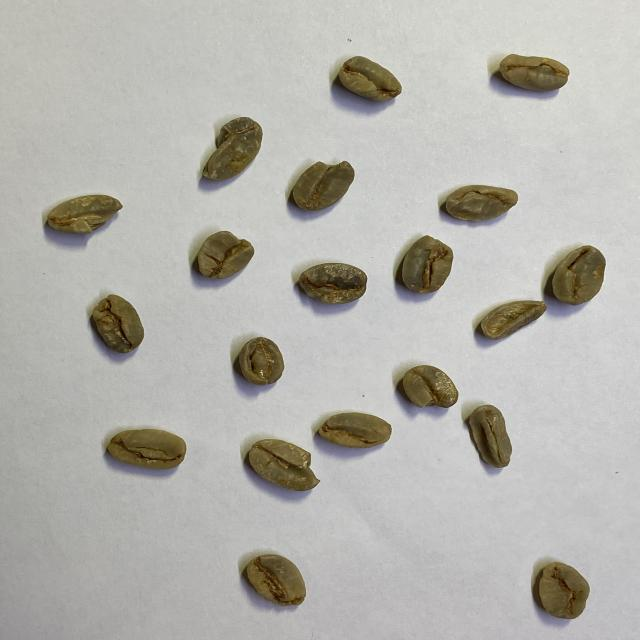bad: (201, 115, 264, 182), (247, 438, 322, 492), (105, 426, 188, 473), (551, 243, 608, 307), (245, 552, 309, 609), (290, 158, 356, 213), (90, 292, 146, 356), (46, 193, 126, 237), (536, 559, 592, 621), (337, 54, 402, 104), (400, 234, 454, 294), (296, 262, 369, 306), (196, 228, 256, 280), (497, 52, 571, 94), (468, 404, 515, 469), (445, 183, 520, 223), (317, 411, 393, 450), (478, 299, 548, 341), (402, 364, 459, 411), (237, 336, 286, 386)
